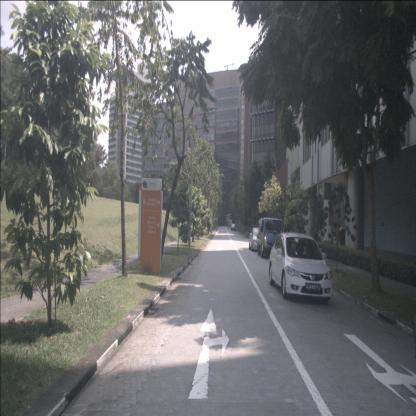vehicle-car: (269, 232, 332, 302), (249, 228, 265, 252), (231, 224, 236, 231)
vehicle-truck: (256, 217, 286, 258)
